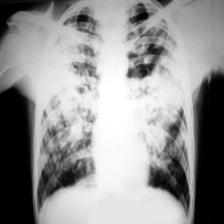tuberculosis: (30, 0, 196, 224)
